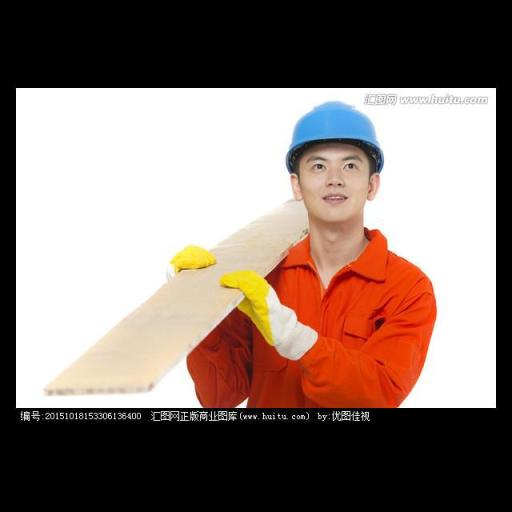Person: (138, 89, 454, 419)
gloves: (210, 268, 325, 364), (169, 238, 220, 274)
helmet: (280, 101, 390, 176)
